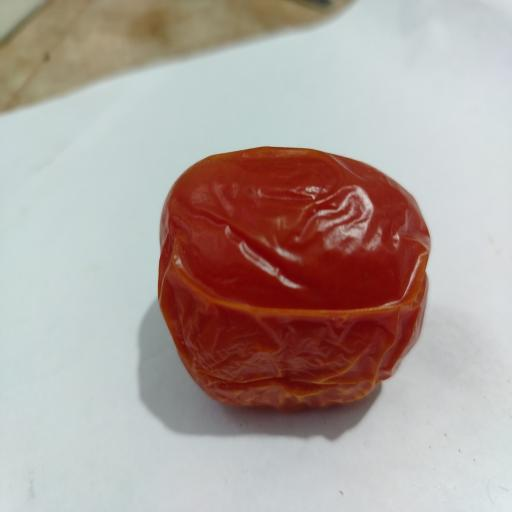spoiled: (158, 147, 430, 410), (249, 187, 255, 196)
